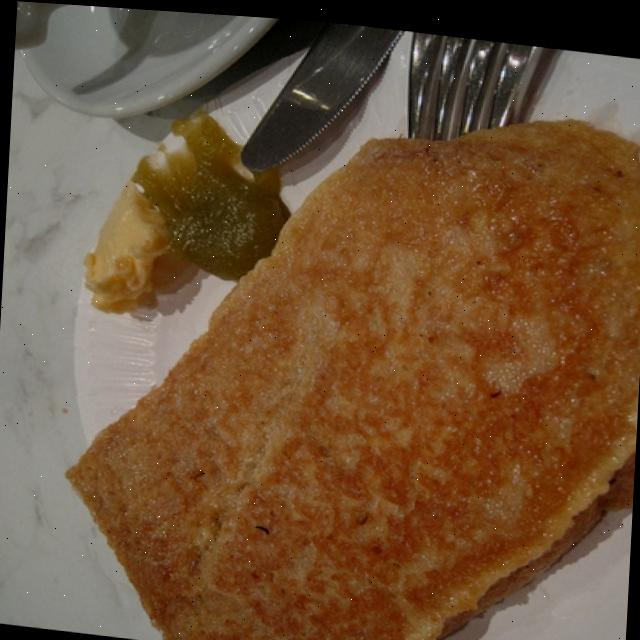面包点心: (26, 67, 640, 640)
